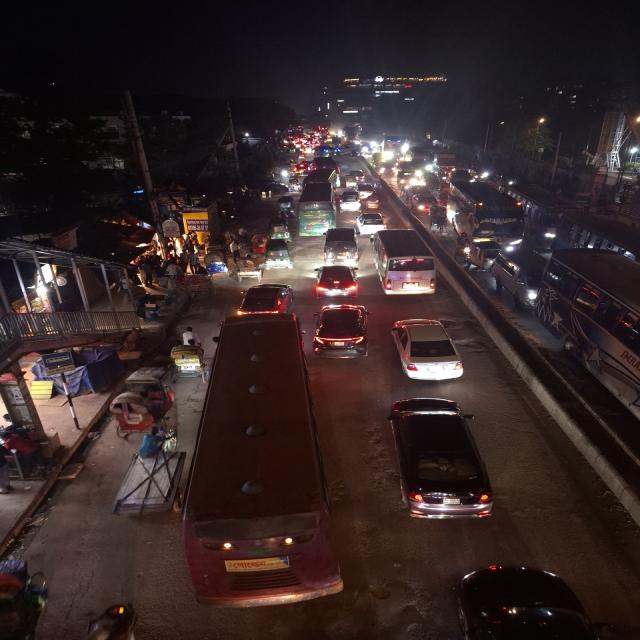bus: (190, 315, 322, 611), (543, 249, 640, 409), (446, 180, 527, 250), (520, 183, 568, 244), (296, 178, 338, 238)
car: (384, 396, 496, 524), (386, 316, 464, 384), (369, 228, 439, 298), (310, 301, 371, 359), (488, 249, 544, 312), (233, 280, 294, 318), (311, 263, 360, 299), (321, 226, 360, 265), (460, 238, 503, 260), (355, 210, 388, 233), (338, 189, 362, 213)
cng: (261, 237, 295, 271), (266, 218, 292, 239), (276, 195, 296, 218)
motorcycle: (68, 600, 146, 640), (362, 193, 383, 210)
rickshaw: (105, 366, 177, 442), (168, 341, 206, 381), (229, 255, 265, 283), (202, 252, 229, 277), (267, 218, 291, 239)
